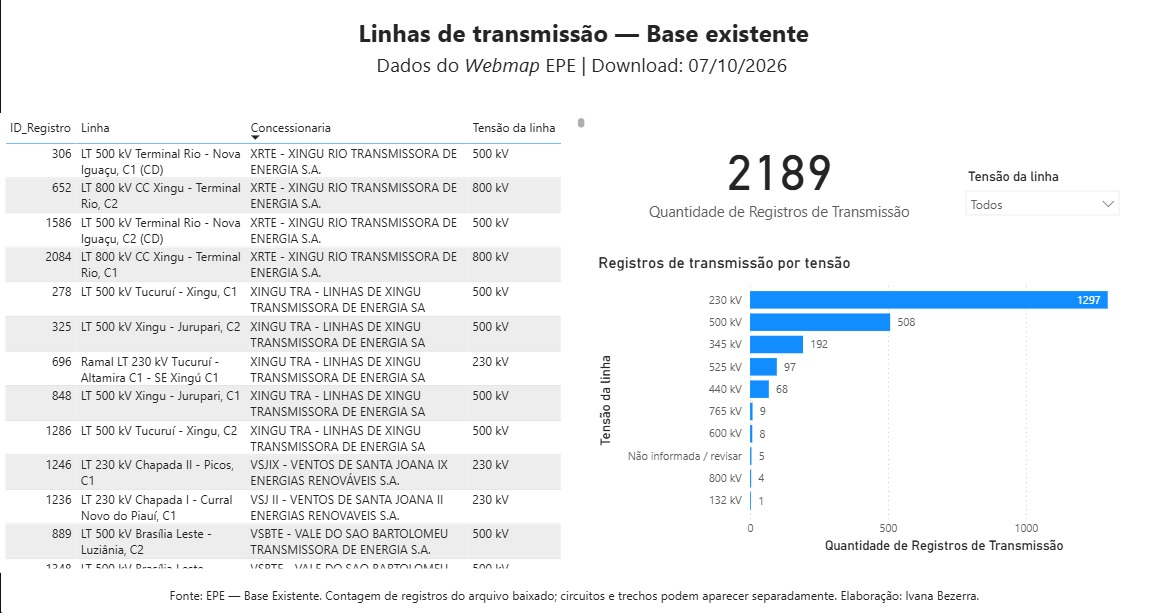

The dashboard page shown, as its layout file describes it:
{"tool":"powerbi","page":{"name":"Transmissão","canvas":[1280,720],"ordinal":1},"visuals":[{"type":"card","fields":{"Values":["transmissao_base_existente.Quantidade de Registros de Transmissão"]},"box":[705.3,182.5,300.5,115.3],"z":0},{"type":"clusteredBarChart","title":"Registros de transmissão por tensão","fields":{"Category":["transmissao_base_existente.Classe_Tensao"],"Y":["transmissao_base_existente.Quantidade de Registros de Transmissão"]},"box":[651.8,323.8,616.1,334.8],"z":1000},{"type":"slicer","fields":{"Values":["transmissao_base_existente.Classe_Tensao"]},"box":[1049.7,226.4,189.4,71.4],"z":2000},{"type":"tableEx","fields":{"Values":["transmissao_base_existente.ID_Registro","transmissao_base_existente.Linha","transmissao_base_existente.Concessionaria","transmissao_base_existente.Classe_Tensao"]},"box":[0,170.2,647.7,505],"z":2001},{"type":"textbox","box":[388.8,59.3,517.3,49.4],"z":2002},{"type":"textbox","box":[372.3,97.7,533.8,49.4],"z":2003},{"type":"textbox","box":[181.1,686.1,940,34.3],"z":2004}]}

Visuals, with their boxes on the page's 1280x720 design canvas (x1, y1, x2, y2). These are canvas units, not pixel positions in the 1161x613 screenshot, which may show the page scaled, cropped or inside an application window:
card - transmissao_base_existente.Quantidade de Registros de Transmissão: (x1=705, y1=182, x2=1006, y2=298)
"Registros de transmissão por tensão" clusteredBarChart: (x1=652, y1=324, x2=1268, y2=659)
slicer - transmissao_base_existente.Classe_Tensao: (x1=1050, y1=226, x2=1239, y2=298)
tableEx - transmissao_base_existente.ID_Registro x transmissao_base_existente.Linha: (x1=0, y1=170, x2=648, y2=675)
textbox: (x1=389, y1=59, x2=906, y2=109)
textbox: (x1=372, y1=98, x2=906, y2=147)
textbox: (x1=181, y1=686, x2=1121, y2=720)
